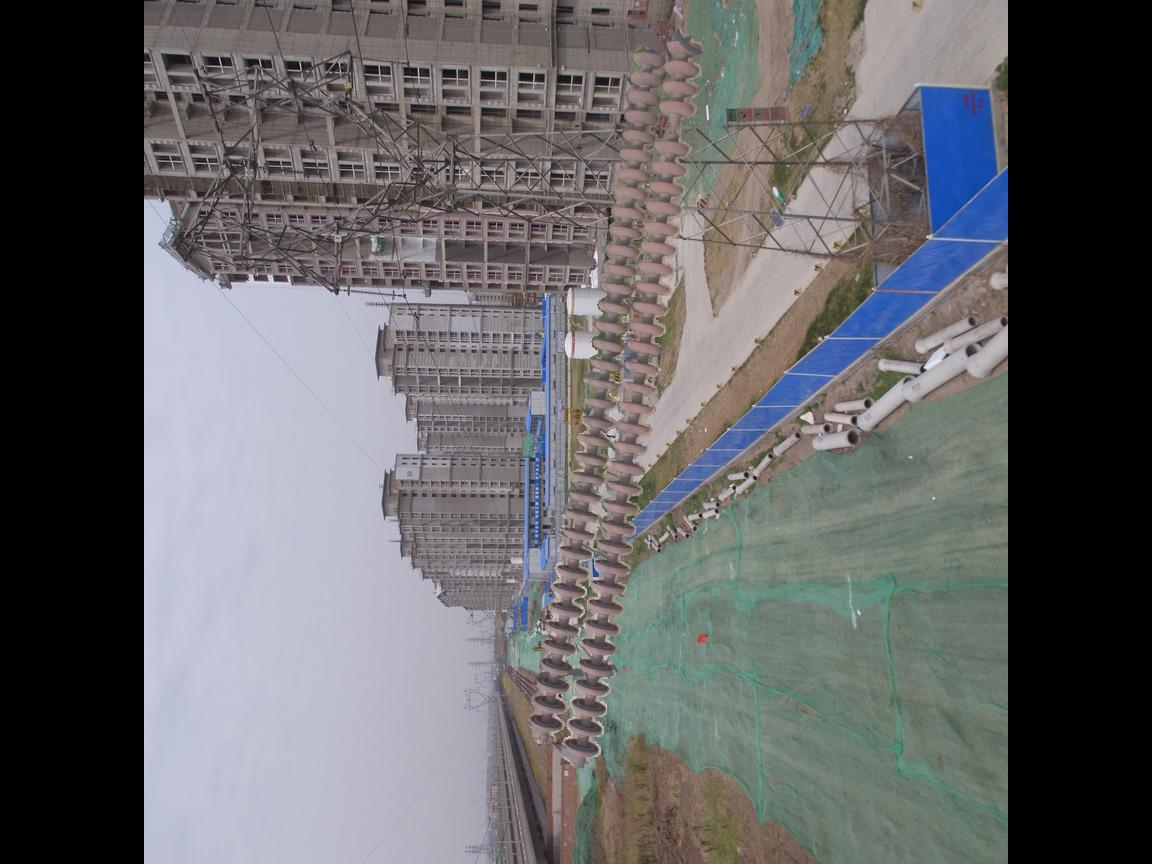insulator: (526, 35, 711, 775)
insulator_stringdrop: (651, 96, 696, 157)
